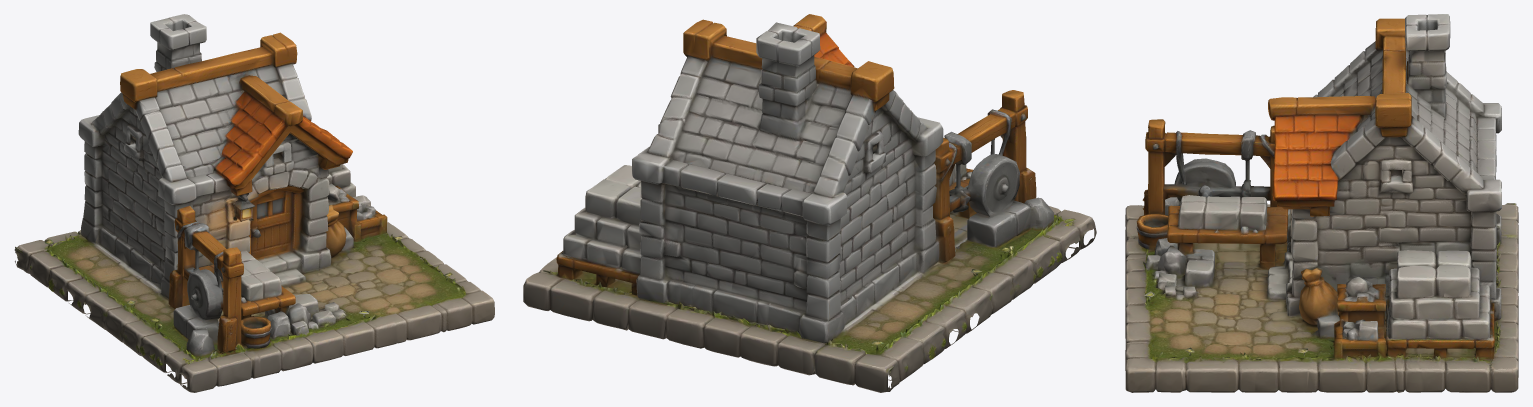
The model's file is stone_workshop.glb.
3 views of the same model, side by side, from view 1: azimuth 30°, elevation 25°; view 2: azimuth 150°, elevation 25°; view 3: azimuth 270°, elevation 25° (orthographic). The views are drawn at different scales.
Visible parts, largest first — view 1: tripo_node_726c223d-ae5d-4a76-bde1-d69a146b9955; view 2: tripo_node_726c223d-ae5d-4a76-bde1-d69a146b9955; view 3: tripo_node_726c223d-ae5d-4a76-bde1-d69a146b9955.
Boxes of the visible parts, x1,y1,x2,y2 form: tripo_node_726c223d-ae5d-4a76-bde1-d69a146b9955: [14, 14, 494, 392]; tripo_node_726c223d-ae5d-4a76-bde1-d69a146b9955: [523, 14, 1096, 392]; tripo_node_726c223d-ae5d-4a76-bde1-d69a146b9955: [1125, 14, 1518, 392].
Size of the model in its own units: 1 by 0.751 by 0.9906.
1 material, 1 textured.
